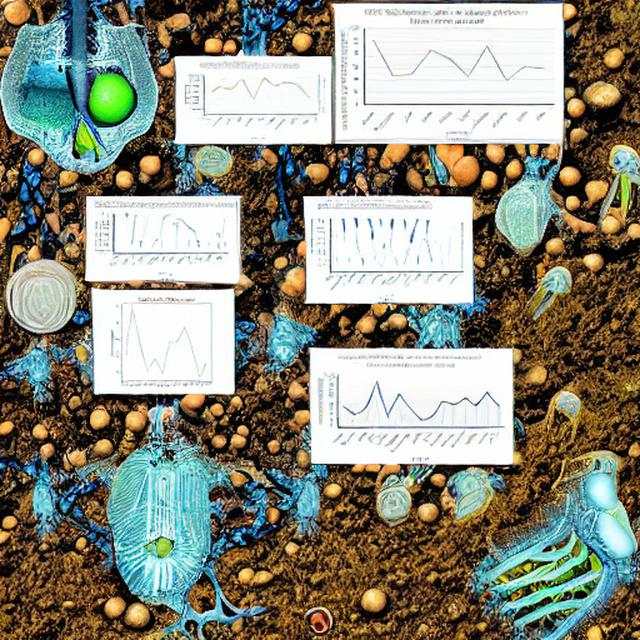Graph: (338, 5, 559, 140), (314, 350, 509, 463), (97, 291, 232, 392), (181, 62, 316, 142)
